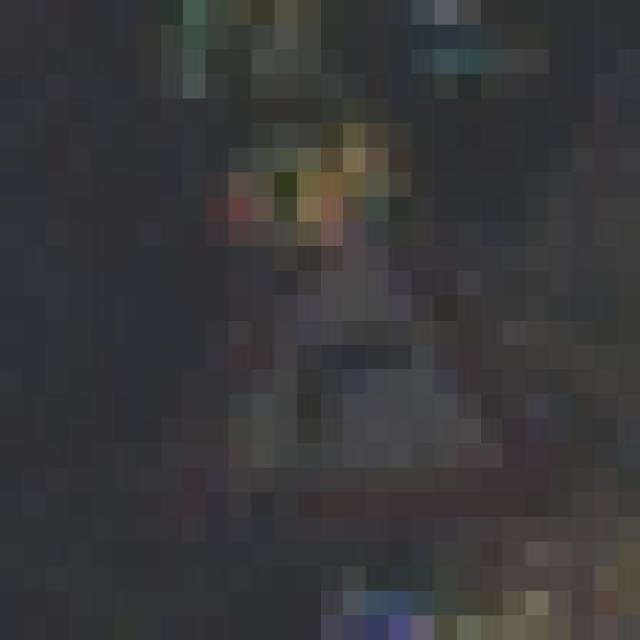Dangerous Rright Curve Ahead: (114, 99, 549, 566)
